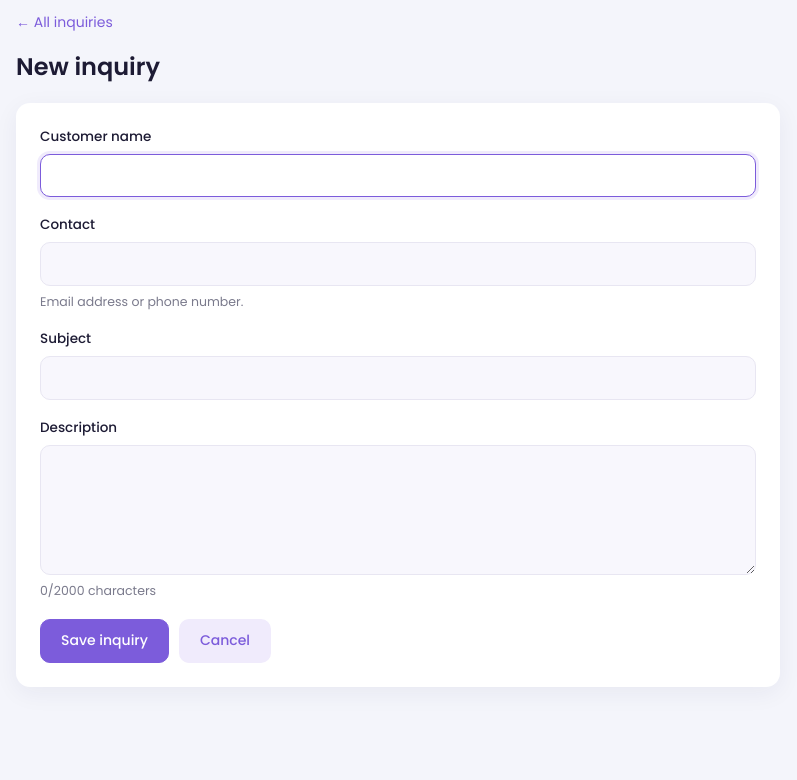
Scenario: NewInquiryPage › shows errors the server finds next to the matching field, keeping what was typed
The image size is (797, 780).
Type "Jane Customer" into the field labelled "Customer name".
click(398, 176); type("Jane Customer")  # box [40,154,756,198]
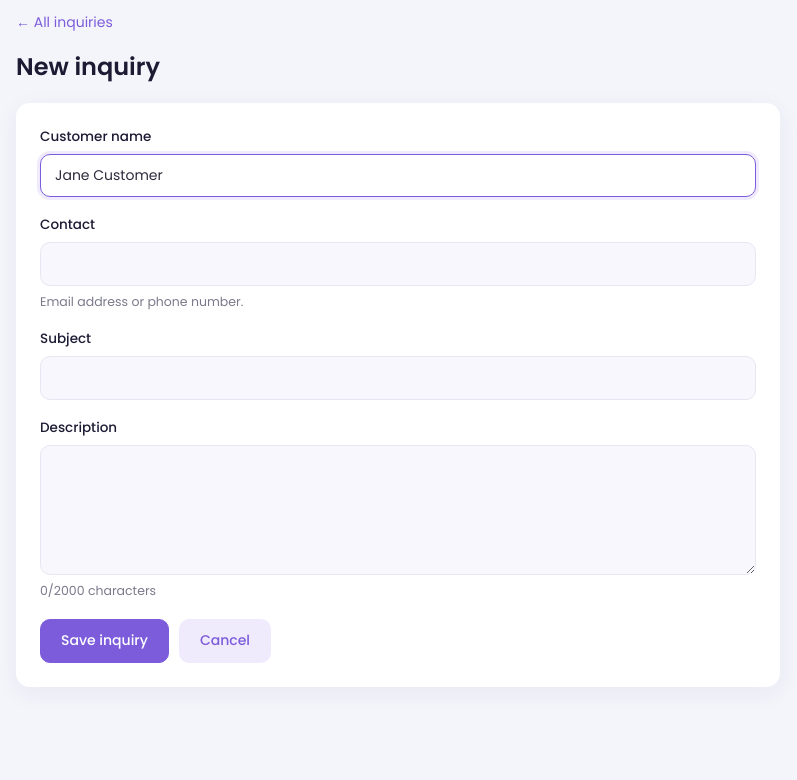
Type "jane@example.com" into the field labelled "Contact".
click(398, 264); type("jane@example.com")  # box [40,242,756,286]
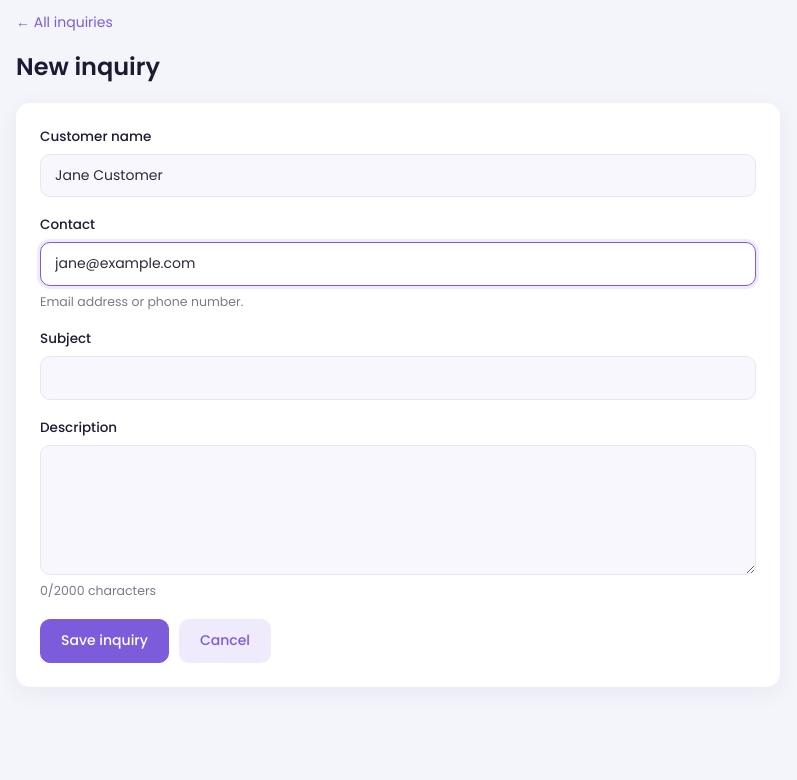
Type "Booking change" into the field labelled "Subject".
click(398, 378); type("Booking change")  # box [40,356,756,400]
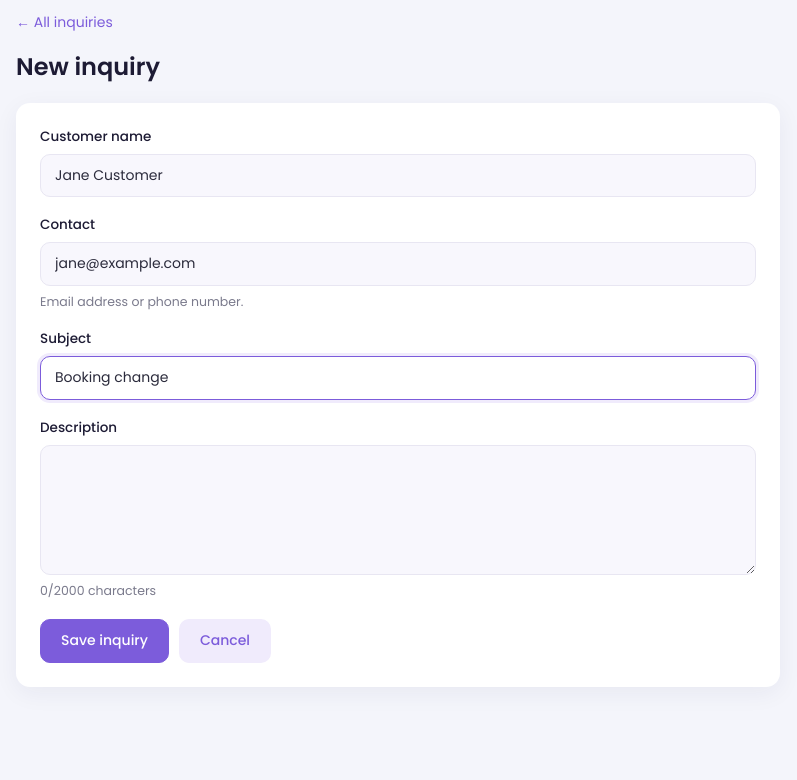
Type "Move to Friday please." into the text box labelled "Description".
click(398, 510); type("Move to Friday please.")  # box [40,445,756,575]
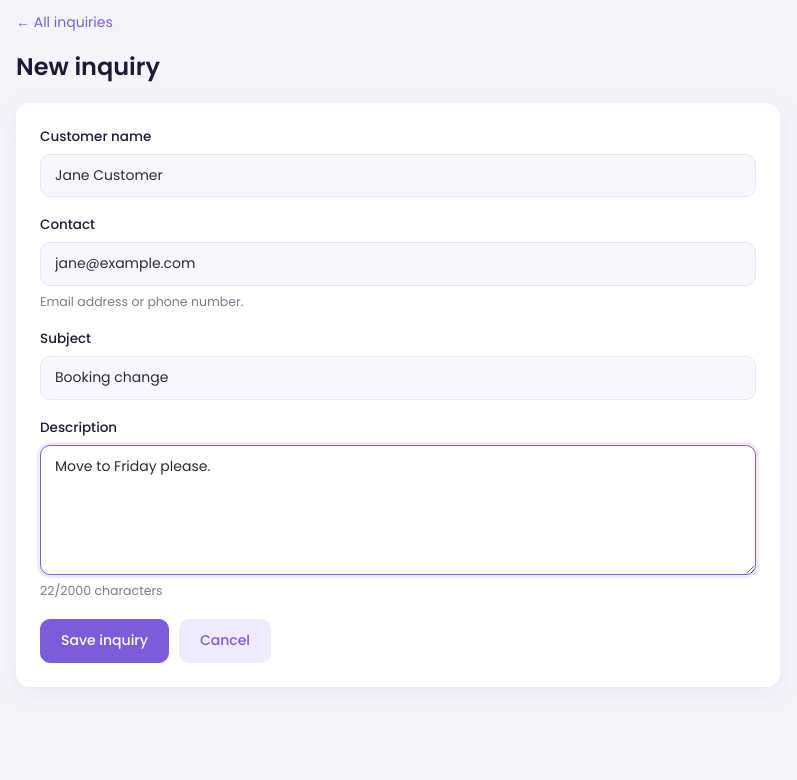
Click the button "Save inquiry".
click(104, 641)  # box [40,619,169,662]
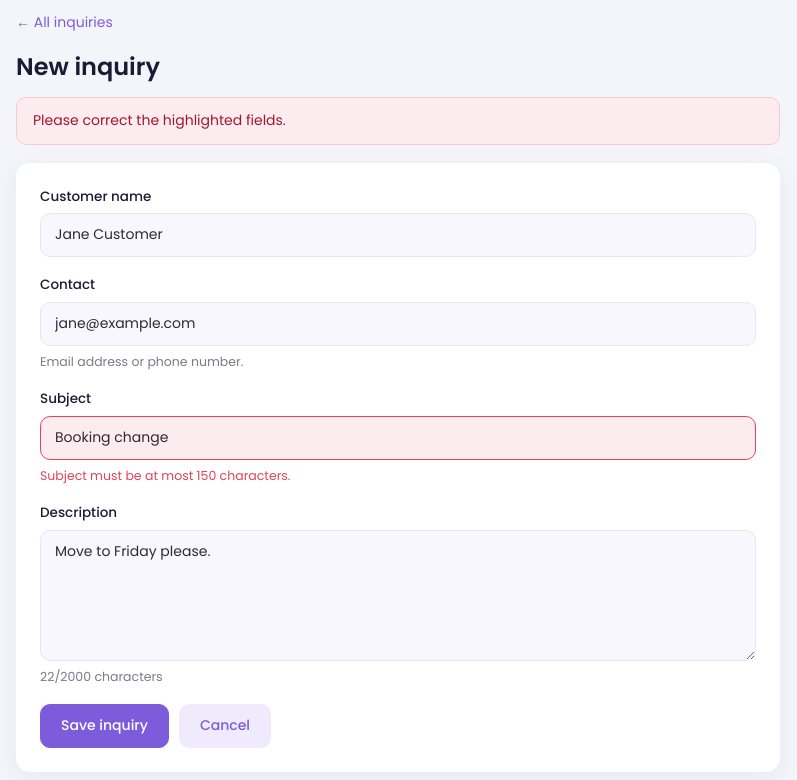
Expected: the button "Save inquiry" is enabled, [40,704,169,748]
Expected: the text "Subject must be at most 150 characters." is shown, [40,467,290,484]
